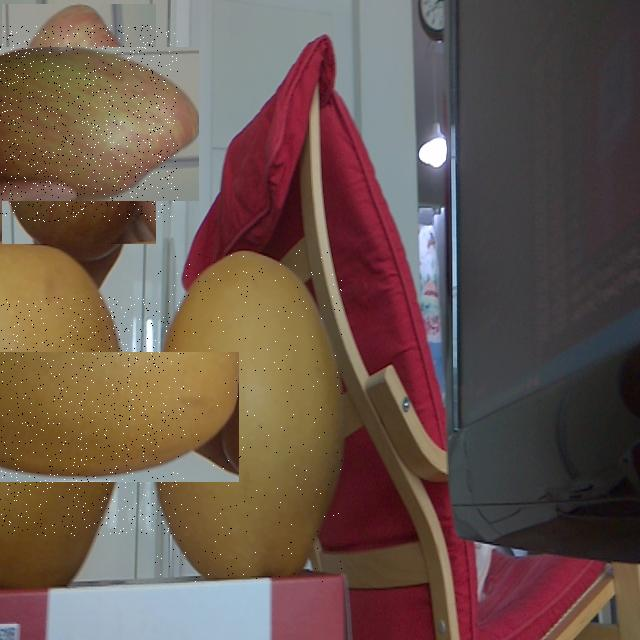apple: (0, 25, 178, 222)
pear: (155, 250, 343, 582), (0, 297, 184, 536)
